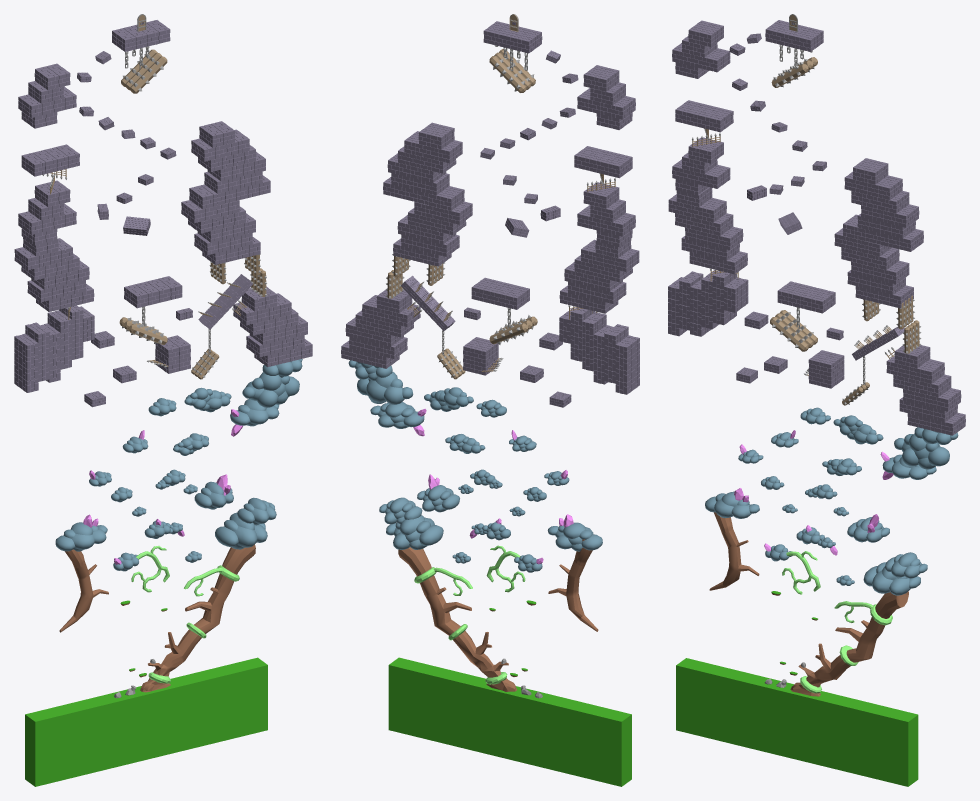
The model's file is world3.fbx.
The picture shows the model from 3 angles, left to right: view 1: azimuth 30°, elevation 25°; view 2: azimuth 150°, elevation 25°; view 3: azimuth 330°, elevation 25°; orthographic projection.
Parts seen in each view (by area): view 1: polySurface2193; view 2: polySurface2193; view 3: polySurface2193.
Part boxes in pixels (bbox=[...]): polySurface2193: bbox=[14, 14, 312, 786]; polySurface2193: bbox=[341, 14, 639, 786]; polySurface2193: bbox=[668, 14, 965, 786].
Size of the model in its own units: 51105 by 126740 by 8278.
